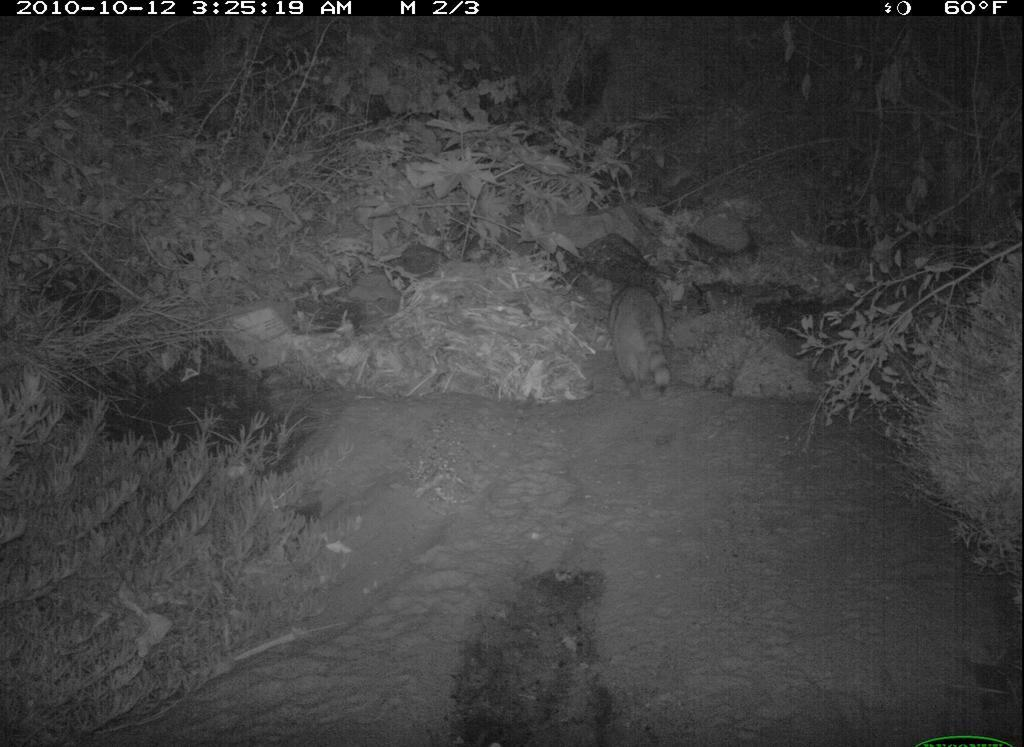raccoon: (605, 276, 685, 399)
